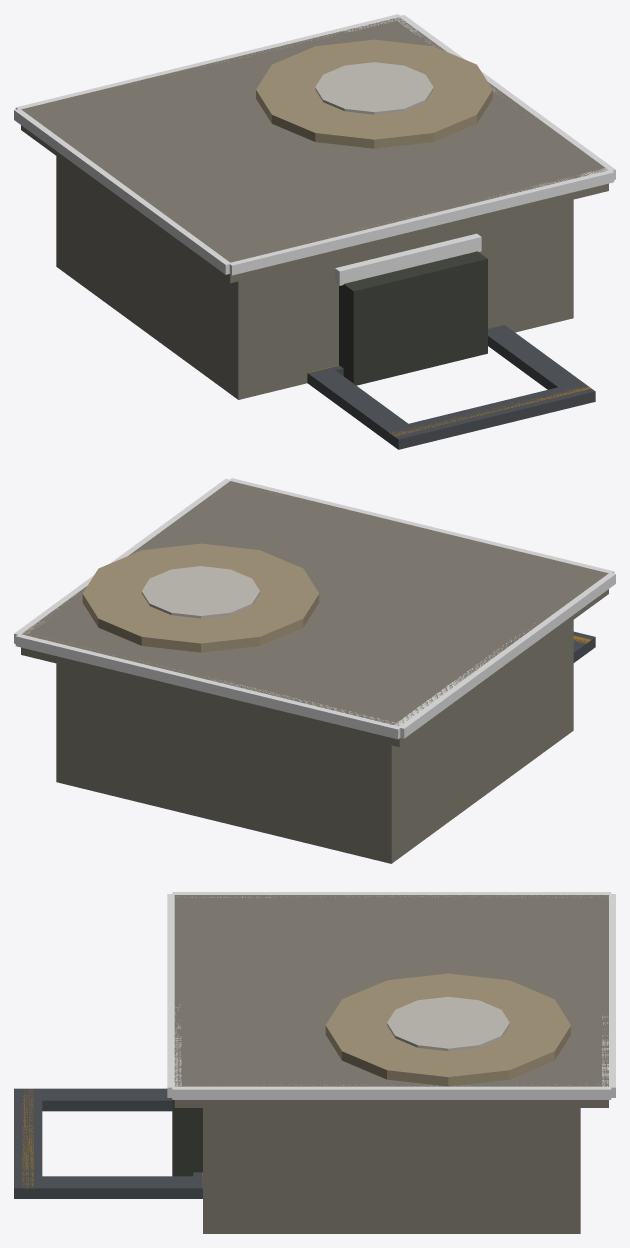
The model's file is RF_Structure_Bunker.glb.
The picture shows the model from 3 angles, top to bottom: view 1: azimuth 30°, elevation 25°; view 2: azimuth 150°, elevation 25°; view 3: azimuth 270°, elevation 25°; orthographic projection. The views are drawn at different scales.
Visible parts, largest first — view 1: RF_Structure_Bunker, Helipad, TeamTrim, LiftPlatform; view 2: RF_Structure_Bunker, Helipad, TeamTrim; view 3: RF_Structure_Bunker, Helipad, TeamTrim, LiftPlatform.
Boxes of the visible parts, x1,y1,x2,y2 form: RF_Structure_Bunker: (21, 17, 608, 399); Helipad: (256, 39, 492, 148); TeamTrim: (14, 14, 615, 285); LiftPlatform: (307, 325, 595, 449); RF_Structure_Bunker: (21, 481, 608, 863); Helipad: (82, 543, 319, 652); TeamTrim: (14, 478, 615, 739); RF_Structure_Bunker: (172, 895, 608, 1233); Helipad: (325, 973, 570, 1086); TeamTrim: (167, 892, 615, 1099); LiftPlatform: (14, 1088, 202, 1198).
Size of the model in its own units: 9.9 by 3.98 by 12.75.
